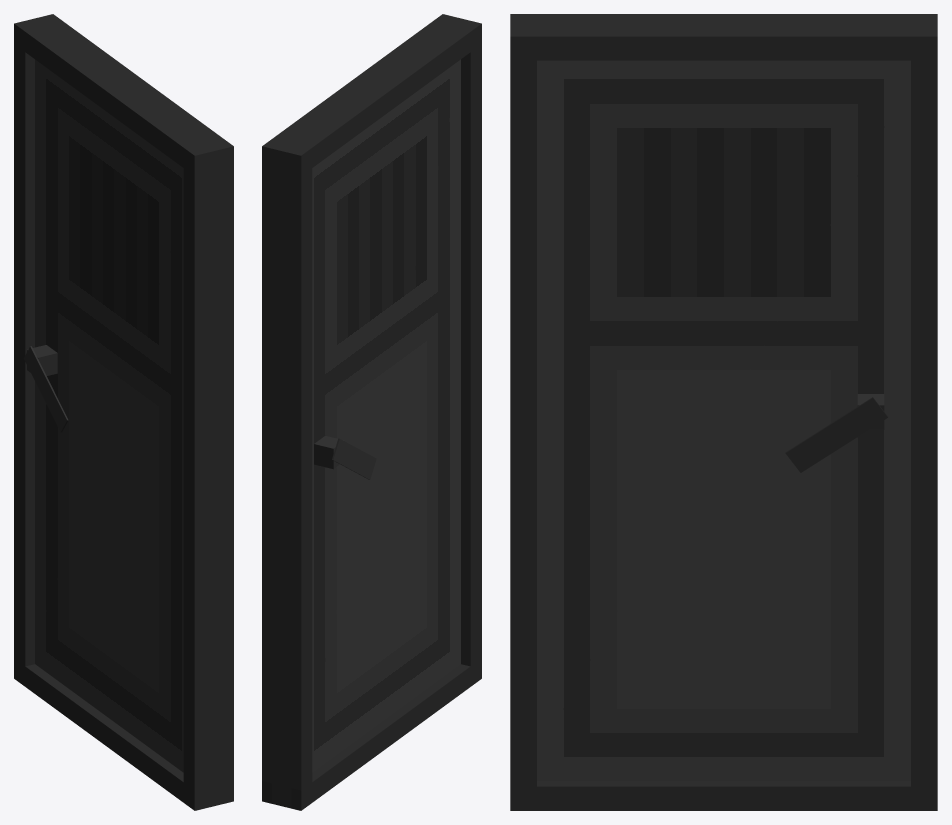
The model's file is open.obj.
3 views of the same model, side by side, from view 1: azimuth 30°, elevation 25°; view 2: azimuth 150°, elevation 25°; view 3: azimuth 270°, elevation 25° (orthographic). The views are drawn at different scales.
Visible parts, largest first — view 1: cube; view 2: cube; view 3: cube.
Boxes of the visible parts, x1,y1,x2,y2 form: cube: (14, 14, 233, 810); cube: (262, 14, 481, 810); cube: (510, 14, 937, 810).
Bounding box in the file's own units: 0.1969 × 2 × 1.
